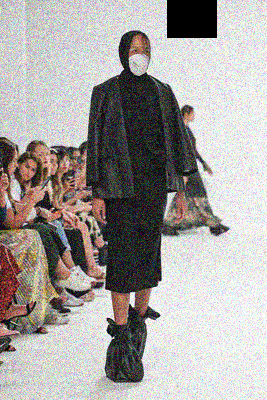with_mask: (128, 46, 151, 77)
without_mask: (20, 163, 38, 183), (7, 156, 19, 177), (37, 151, 50, 169), (59, 157, 69, 173), (50, 158, 59, 175), (73, 155, 82, 170), (190, 112, 196, 123)
